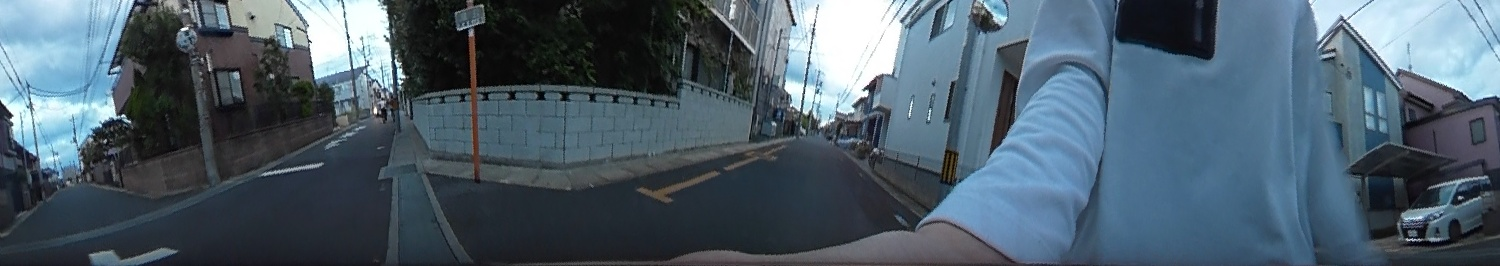difficult_person: (377, 95, 388, 123)
